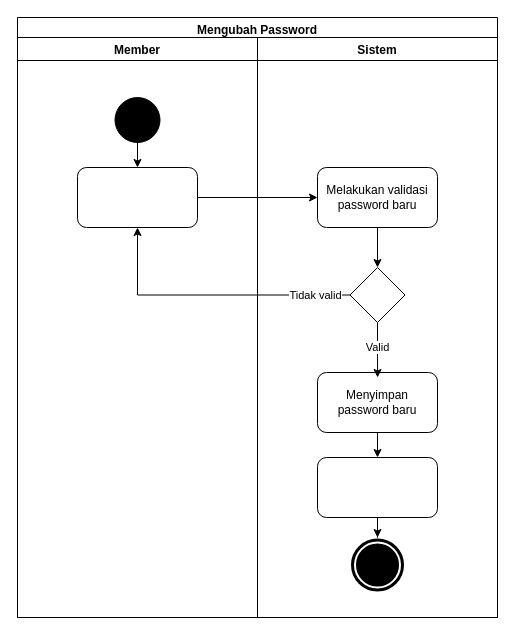
This 515x635 diagram has some shape labels left out. Here are the shapes that lost their labels. From the top down, the centre of each, then its label:
At [137,197]: "Mengisi password baru".
At [377,487]: "Menampilkan pesan berhasil".
